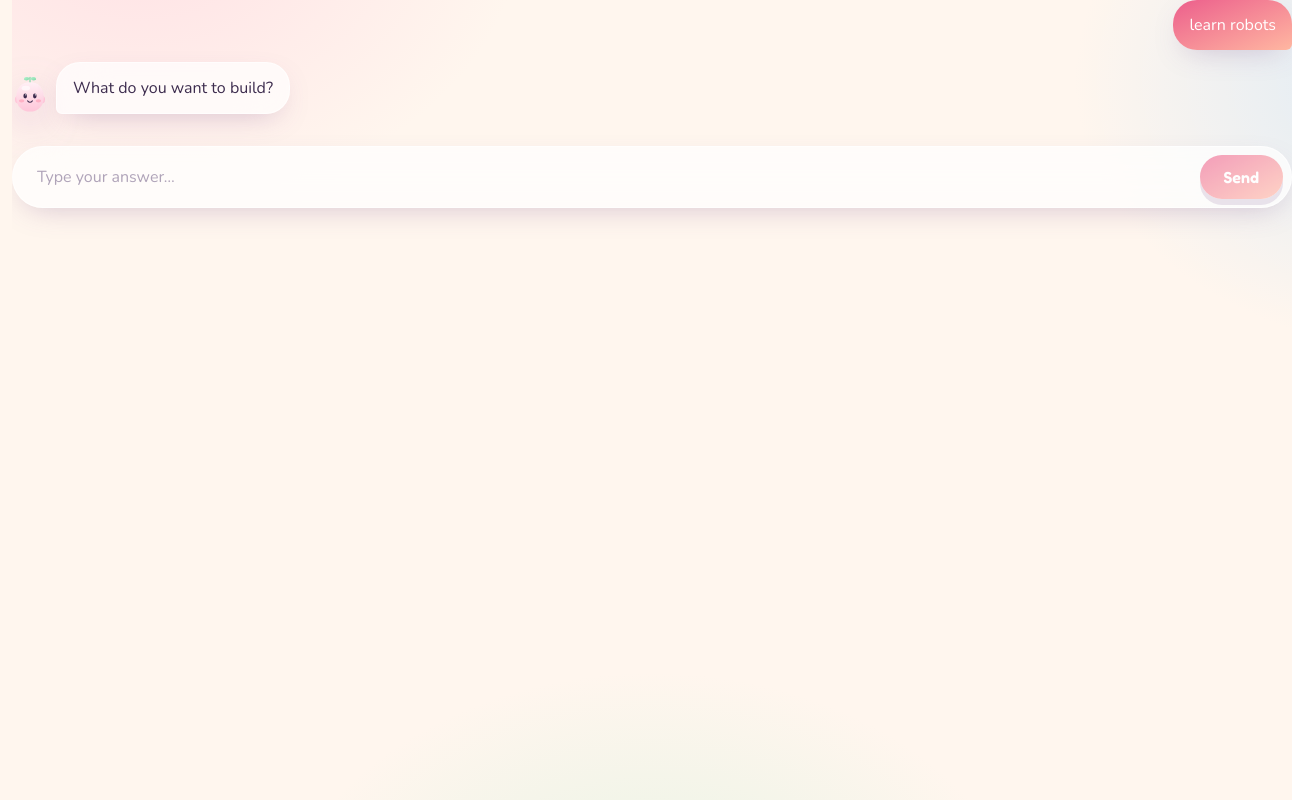
Test: GoalChat › lets the user answer and hands back the summary
This screenshot has width=1292, height=800.
Expected: the text "What do you want to build?" is shown, top-left (56, 62), bottom-right (290, 114)
Type "a robot arm" into the field labelled "Type your answer…" at (606, 177), box top-left (21, 155), bottom-right (1192, 199)
Then press Enter
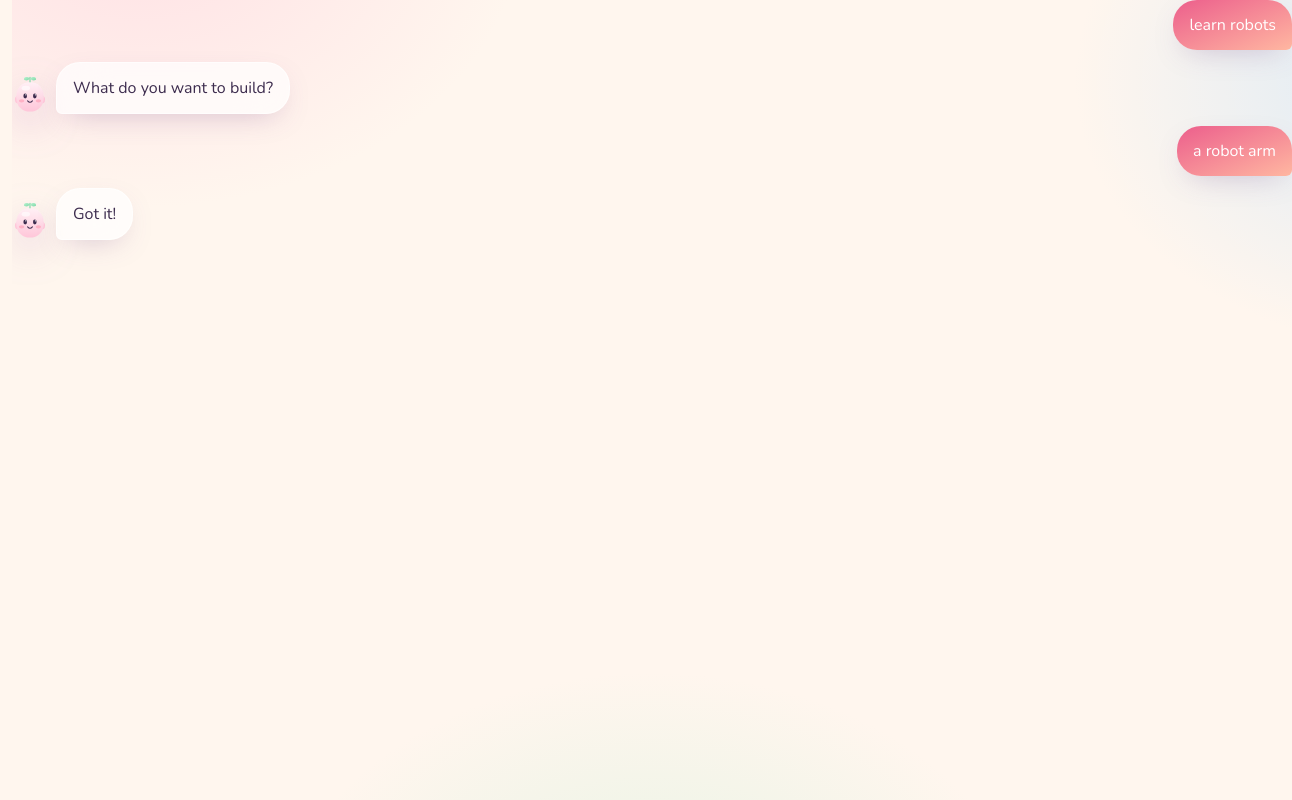
Now the text "a robot arm" is shown, box top-left (1177, 126), bottom-right (1291, 176)
Now the text "Got it!" is shown, box top-left (56, 188), bottom-right (133, 240)
